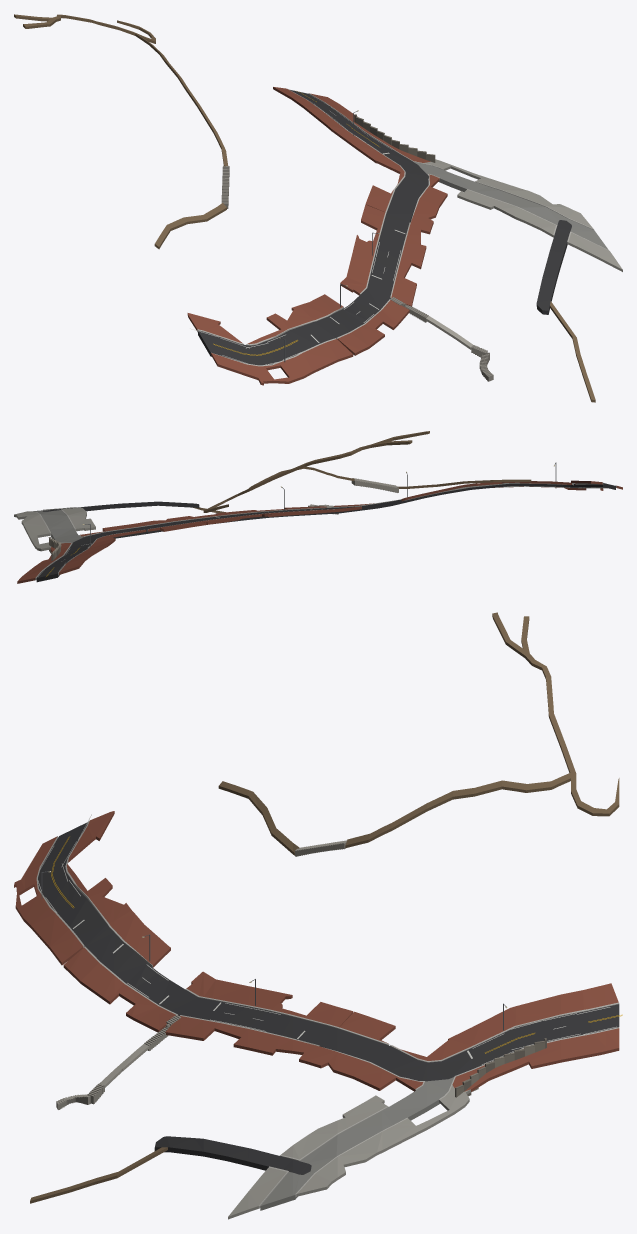
The picture shows the model from 3 angles, top to bottom: view 1: azimuth 30°, elevation 25°; view 2: azimuth 150°, elevation 25°; view 3: azimuth 270°, elevation 25°; orthographic projection. The views are drawn at different scales.
Bounding box in the file's own units: 149 × 93.48 × 136.
